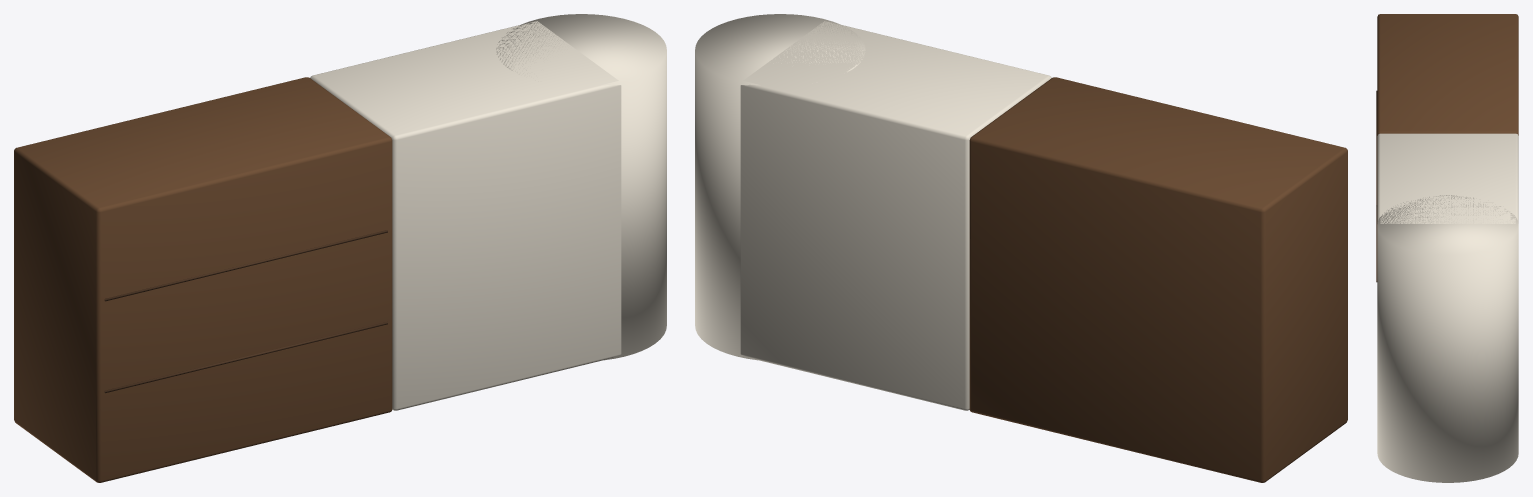
The model's file is bl_sideboard.glb.
The picture shows the model from 3 angles, left to right: view 1: azimuth 30°, elevation 25°; view 2: azimuth 150°, elevation 25°; view 3: azimuth 270°, elevation 25°; orthographic projection. The views are drawn at different scales.
Visible parts, largest first — view 1: bodyL, bodyR, curve, g2, g1; view 2: bodyL, bodyR, curve; view 3: curve, bodyL, bodyR, g2.
Part boxes in pixels (x1=…): bodyL: x1=14, y1=77, x2=392, y2=482; bodyR: x1=310, y1=21, x2=621, y2=410; curve: x1=496, y1=14, x2=666, y2=360; g2: x1=104, y1=230, x2=387, y2=301; g1: x1=104, y1=321, x2=387, y2=393; bodyL: x1=969, y1=77, x2=1347, y2=482; bodyR: x1=740, y1=21, x2=1051, y2=410; curve: x1=695, y1=14, x2=865, y2=360; curve: x1=1377, y1=195, x2=1518, y2=482; bodyL: x1=1377, y1=14, x2=1518, y2=135; bodyR: x1=1377, y1=133, x2=1518, y2=223; g2: x1=1376, y1=90, x2=1377, y2=206.
Size of the model in its own units: 1.82 by 0.8 by 0.4535.
